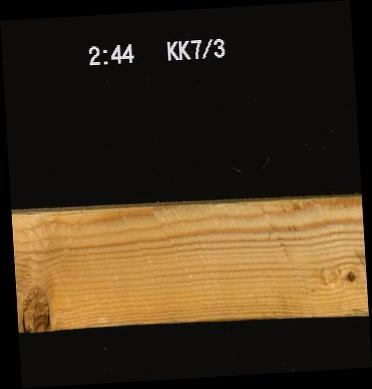dry_knot: (343, 265, 357, 284)
edge_knot: (16, 282, 51, 331)
